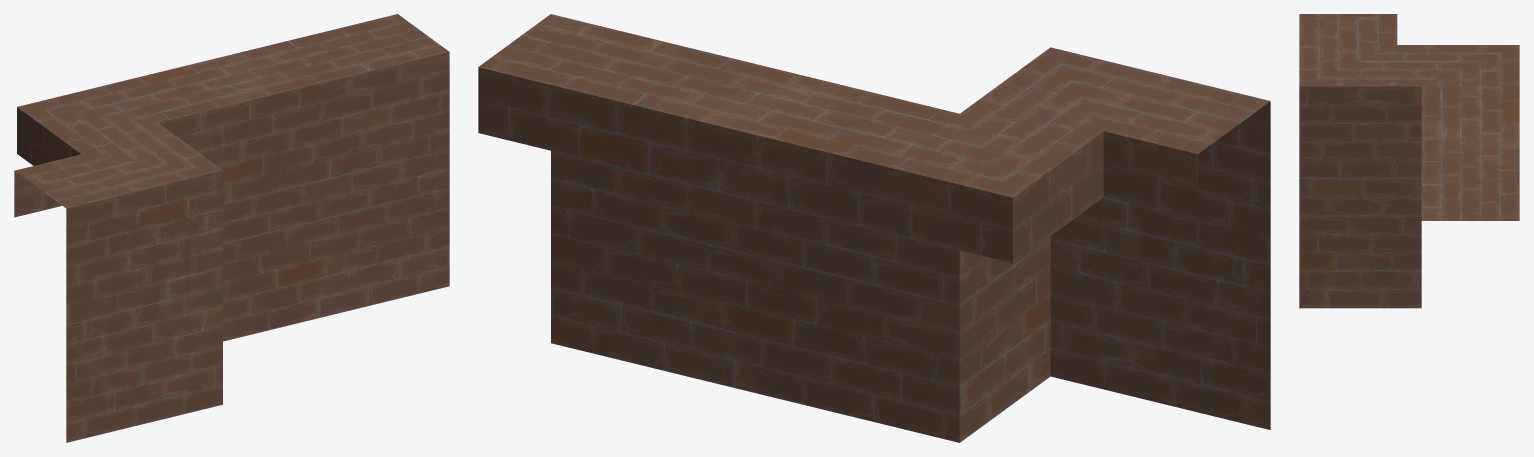
The model's file is Cornice_Brick_90Angle_L.gltf.
The picture shows the model from 3 angles, left to right: view 1: azimuth 30°, elevation 25°; view 2: azimuth 150°, elevation 25°; view 3: azimuth 270°, elevation 25°; orthographic projection. The views are drawn at different scales.
Visible parts, largest first — view 1: Cornice_Brick_90Angle_L; view 2: Cornice_Brick_90Angle_L; view 3: Cornice_Brick_90Angle_L.
Boxes of the visible parts, x1=… form: Cornice_Brick_90Angle_L: x1=14, y1=14, x2=449, y2=442; Cornice_Brick_90Angle_L: x1=478, y1=14, x2=1270, y2=442; Cornice_Brick_90Angle_L: x1=1299, y1=14, x2=1519, y2=308.
Size of the model in its own units: 2 by 1 by 0.9.
Materials: 1 (1 with a texture image).
